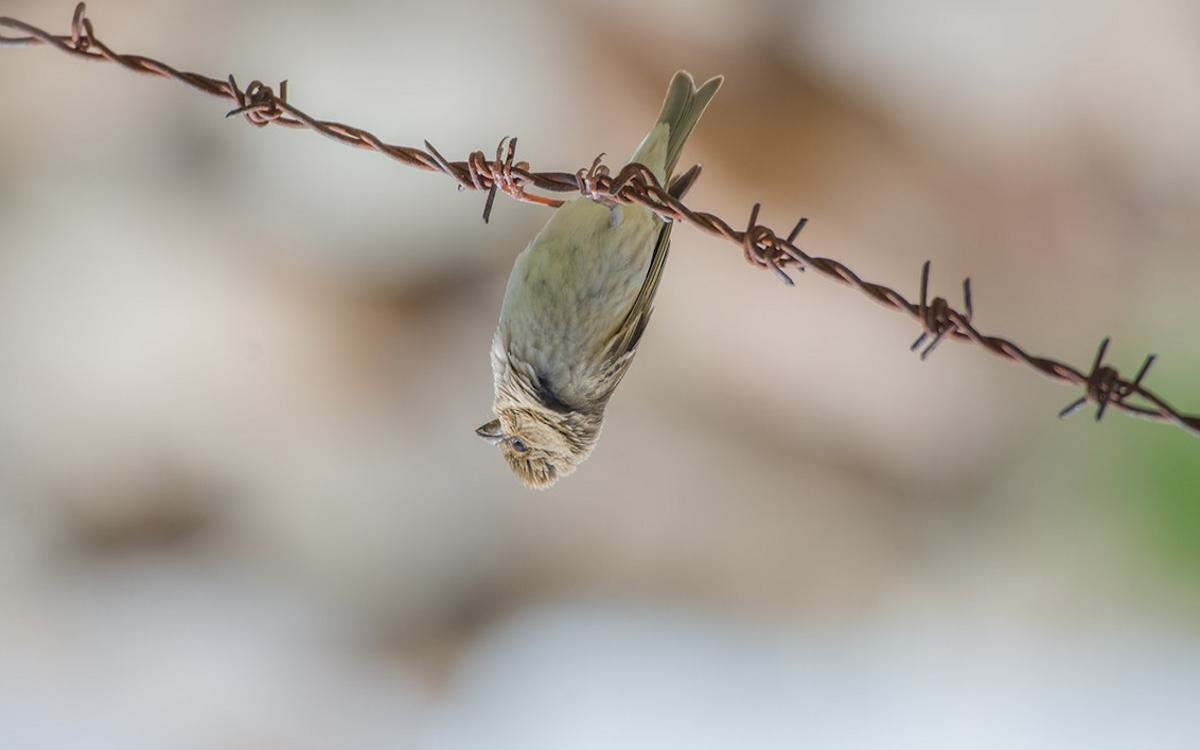rosefinch: (395, 73, 716, 553)
